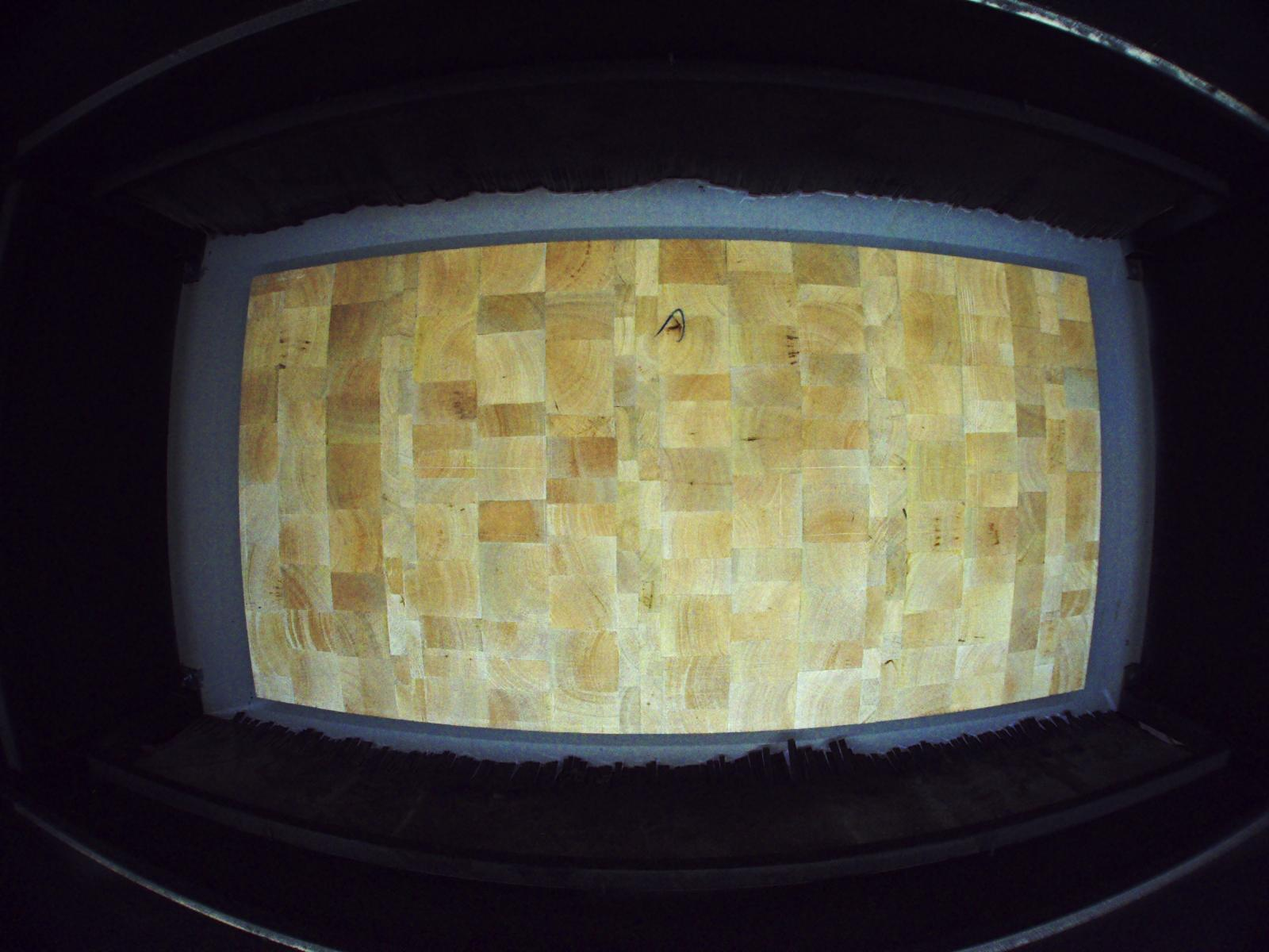sheck_ecuatoriano: (665, 315, 684, 338)
